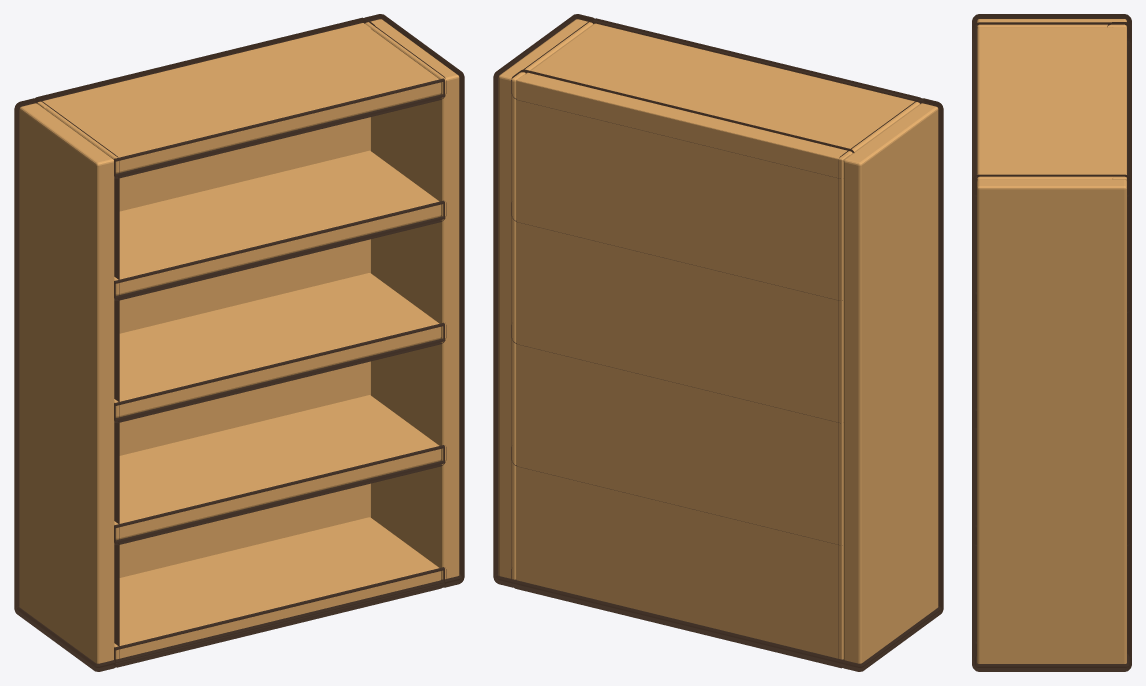
Rendered from estante.glb.
3 renders of one model, left to right at view 1: azimuth 30°, elevation 25°; view 2: azimuth 150°, elevation 25°; view 3: azimuth 270°, elevation 25°, orthographic. The views are drawn at different scales.
Parts seen in each view (by area): view 1: estante, estante_outline; view 2: estante, estante_outline; view 3: estante, estante_outline.
Part boxes in pixels (box(x1,y1,x2,y2)): estante: box(19, 19, 459, 663); estante_outline: box(14, 14, 464, 671); estante: box(498, 19, 938, 663); estante_outline: box(493, 14, 943, 671); estante: box(977, 19, 1126, 663); estante_outline: box(972, 14, 1131, 671).
Size of the model in its own units: 1.64 by 2.16 by 0.6393.
